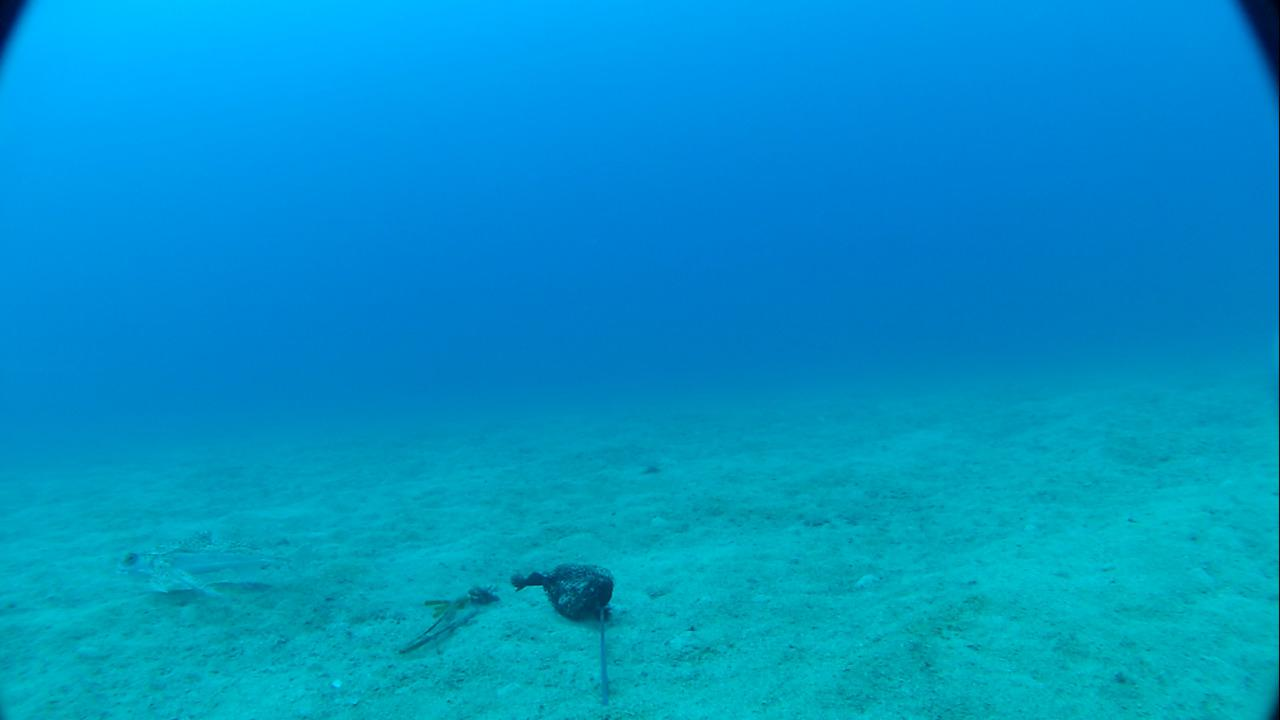dactylopterus: (111, 538, 333, 615)
